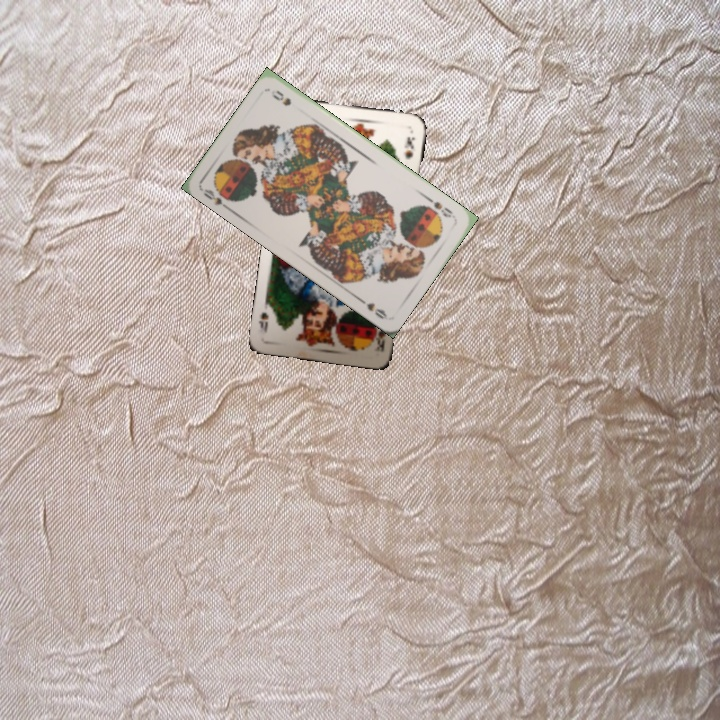SK: (372, 325, 388, 354)
SO: (200, 184, 238, 213), (423, 193, 458, 223)
